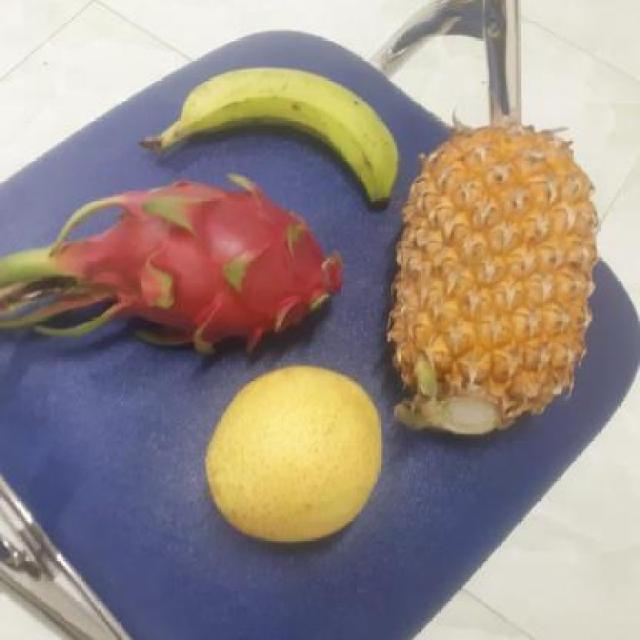banana: (168, 65, 402, 197)
dragon fruit: (67, 176, 368, 359)
guava: (208, 368, 390, 544)
pear: (203, 363, 389, 545)
pineapple: (385, 128, 604, 444)
